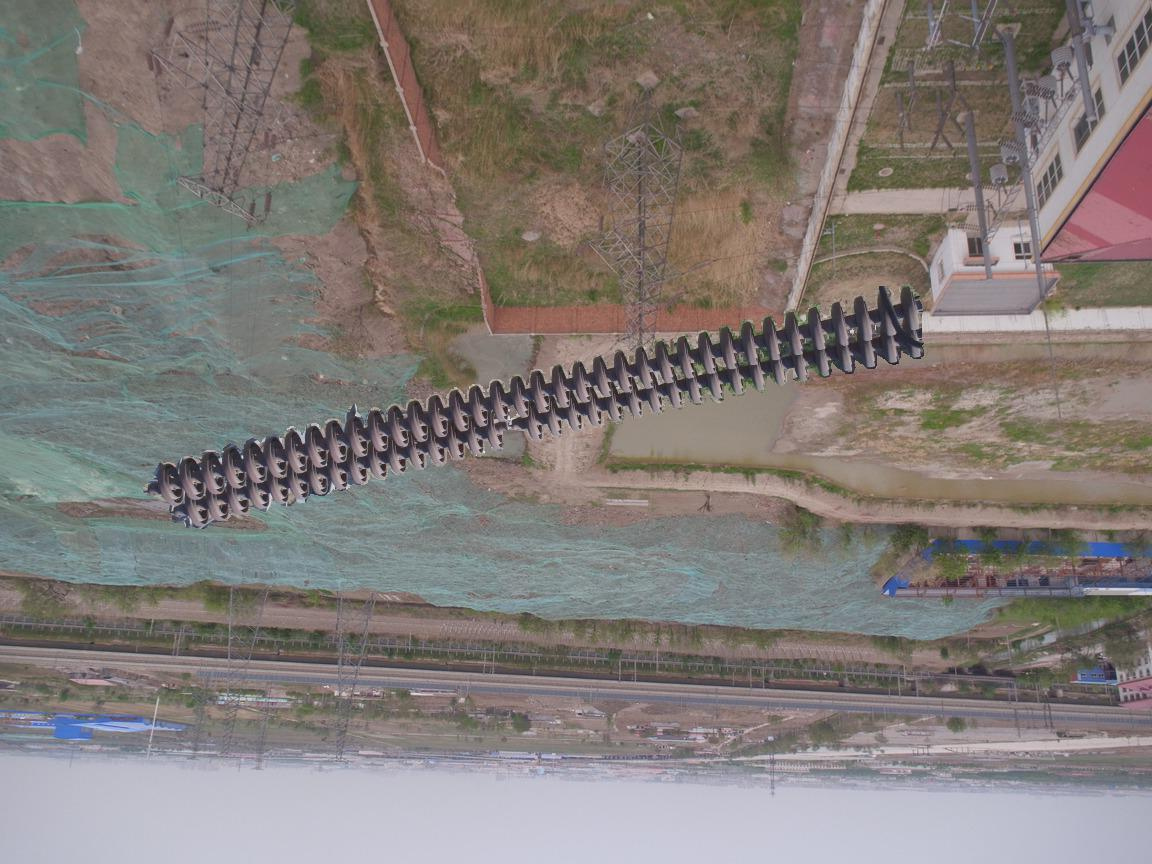insulator: (149, 279, 931, 532)
insulator_stringdrop: (482, 397, 545, 454)
